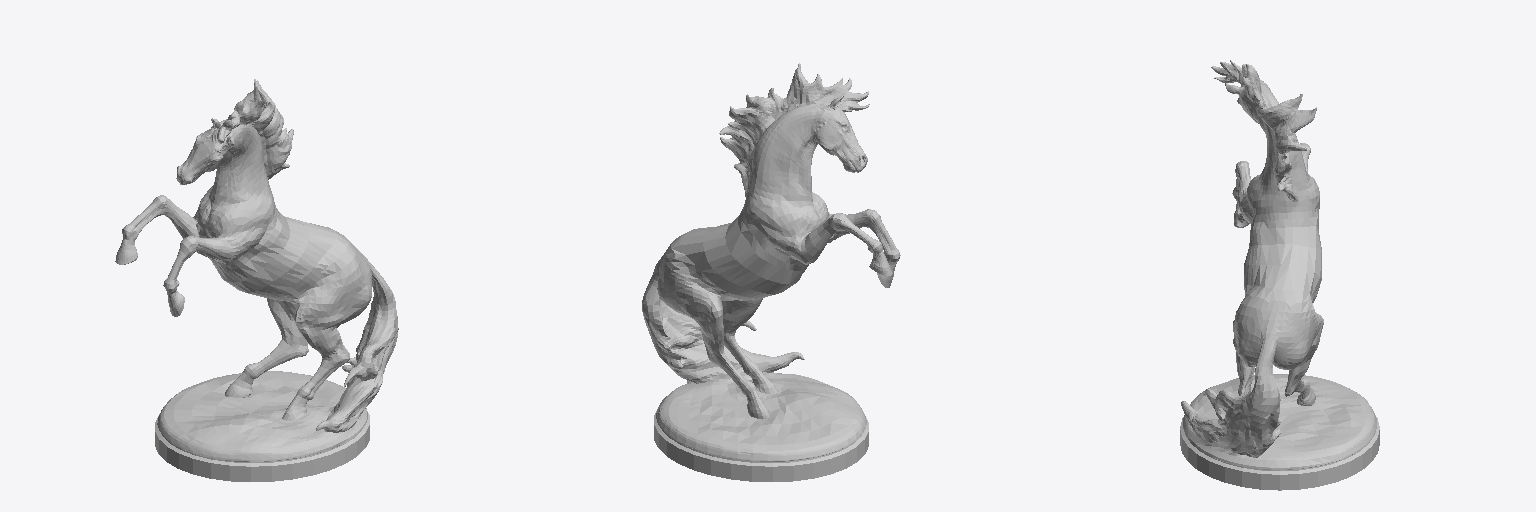
File: horse.obj
The picture shows the model from 3 angles: view 1: azimuth 30°, elevation 25°; view 2: azimuth 150°, elevation 25°; view 3: azimuth 270°, elevation 25°; orthographic projection.
Visible parts, largest first — view 1: horse_statue_01_Plane; view 2: horse_statue_01_Plane; view 3: horse_statue_01_Plane.
Part boxes in pixels (bbox=[...]): horse_statue_01_Plane: bbox=[115, 79, 398, 481]; horse_statue_01_Plane: bbox=[642, 63, 900, 481]; horse_statue_01_Plane: bbox=[1180, 60, 1379, 490].
Bounding box in the file's own units: 0.1638 × 0.22 × 0.1078.